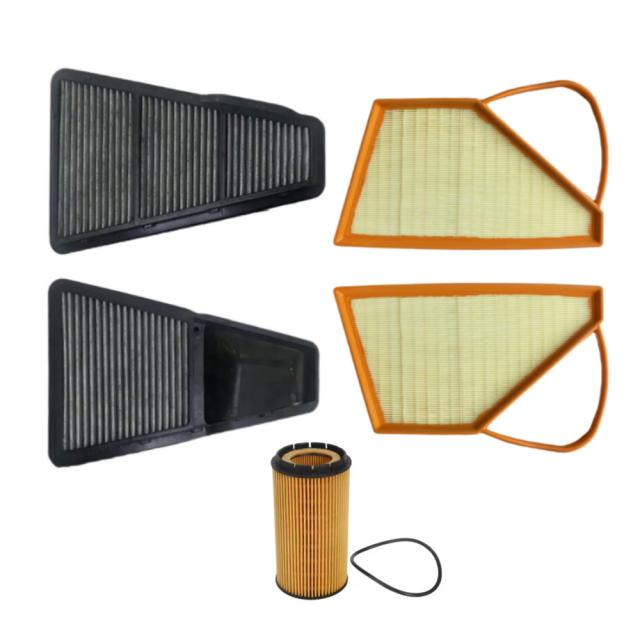air_filter: (41, 58, 325, 262), (332, 76, 624, 271), (330, 277, 626, 449), (35, 274, 324, 436)
oil_filter: (258, 443, 354, 608)
